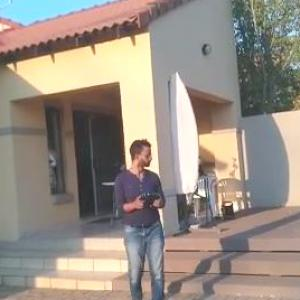follow: (108, 133, 172, 299)
